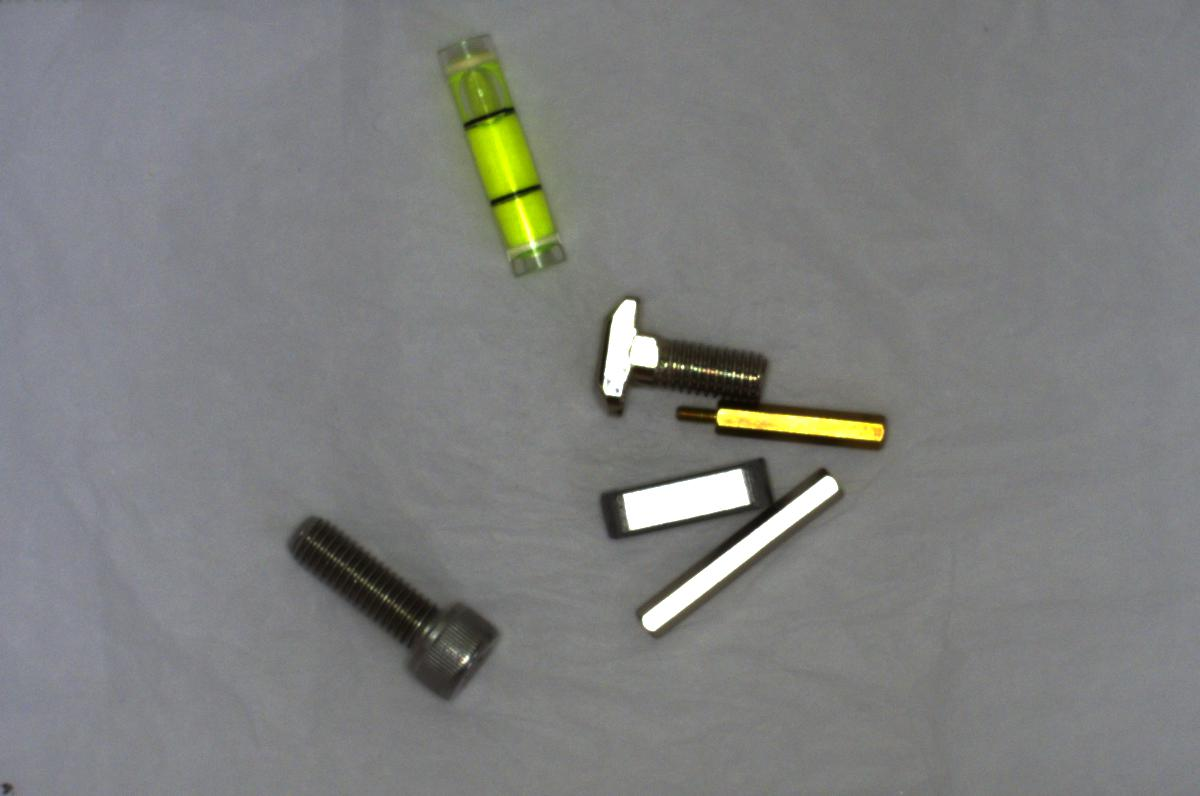Double hexagonal column: (626, 462, 852, 644)
Hexagon pillar: (674, 395, 894, 460)
Hexagon screw: (283, 506, 503, 710)
Horizontal bubble: (432, 14, 576, 278)
Keybar: (587, 449, 776, 539)
T-shaped screw: (587, 283, 780, 417)
